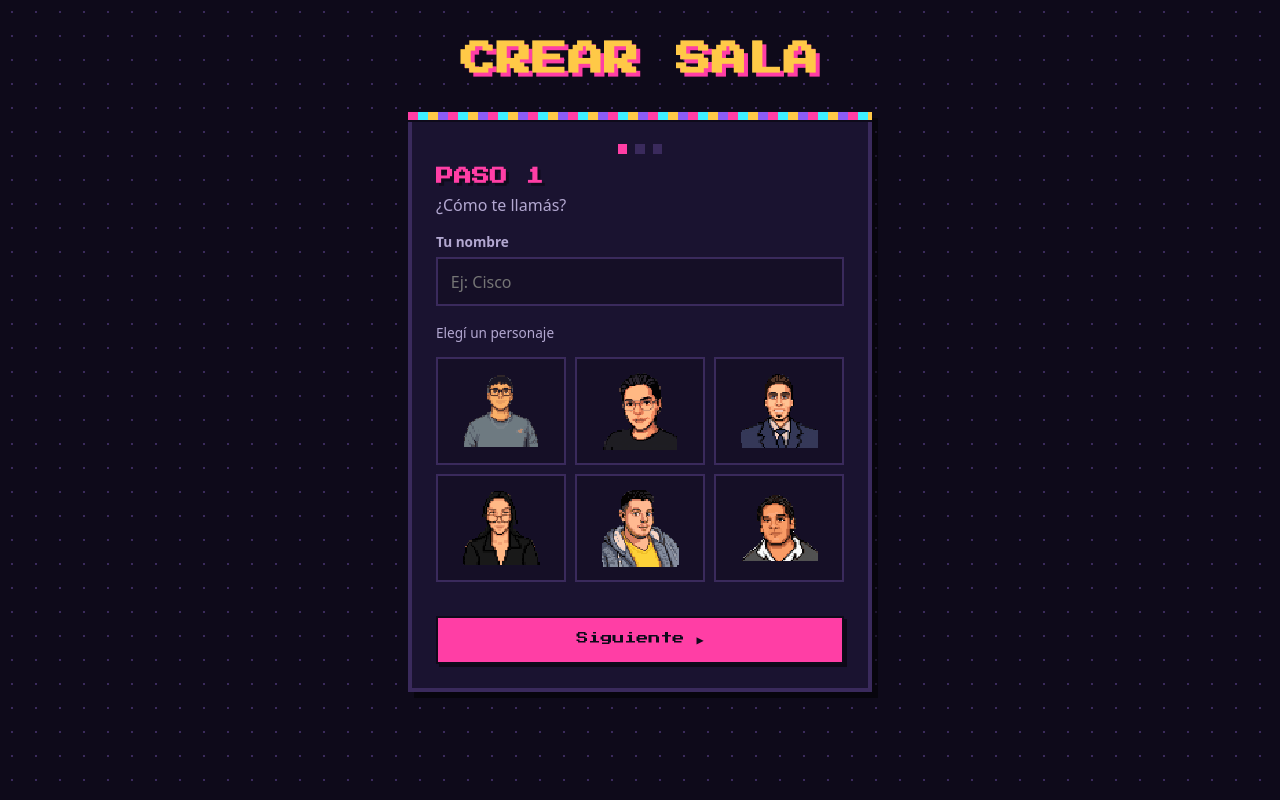
it: CreateRoomPage — formulario no envía vacío › no avanza del paso 1 sin nombre
Step 1. Click the button "Siguiente ▶" → (640, 640), box 436,616 -> 844,664
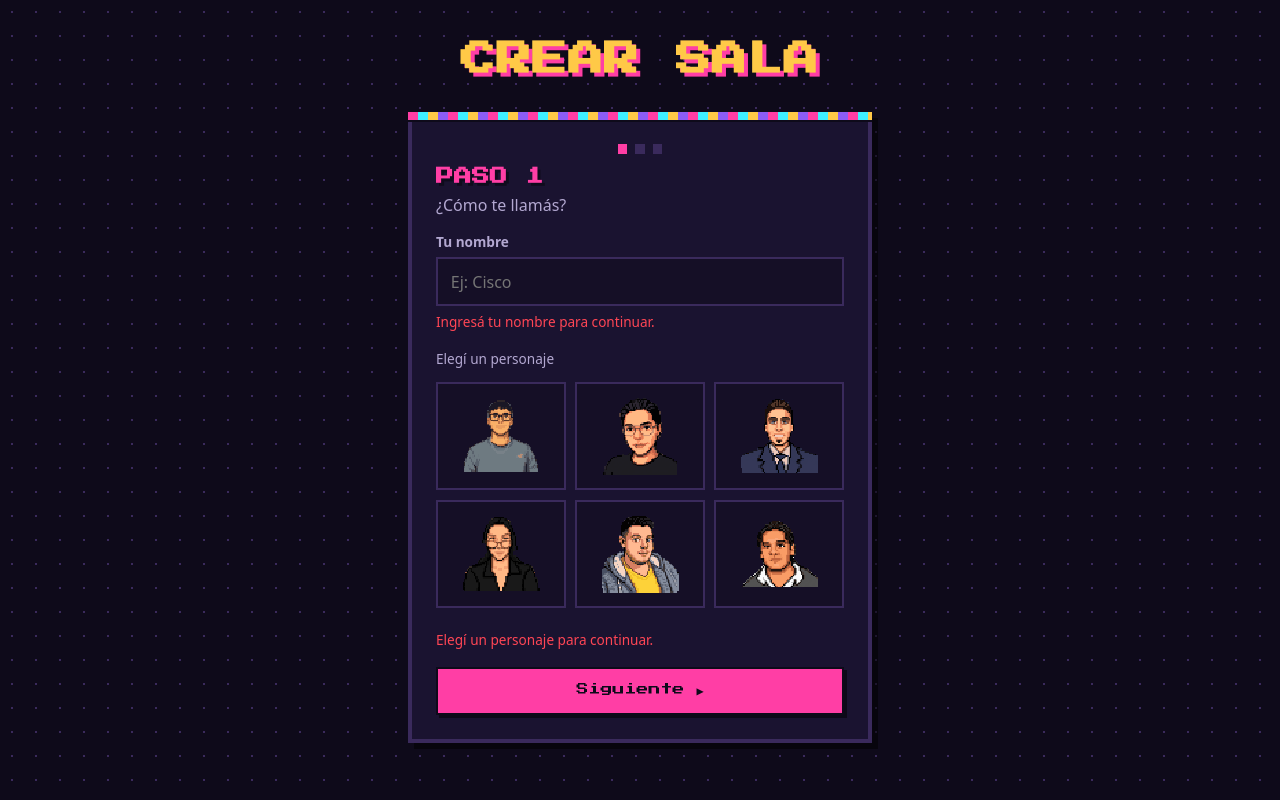
expect the field labelled "Tu nombre" is shown: met, box 436,257 -> 844,306
expect the text "Ingresá tu nombre para continuar." is shown: met, box 436,312 -> 655,331
